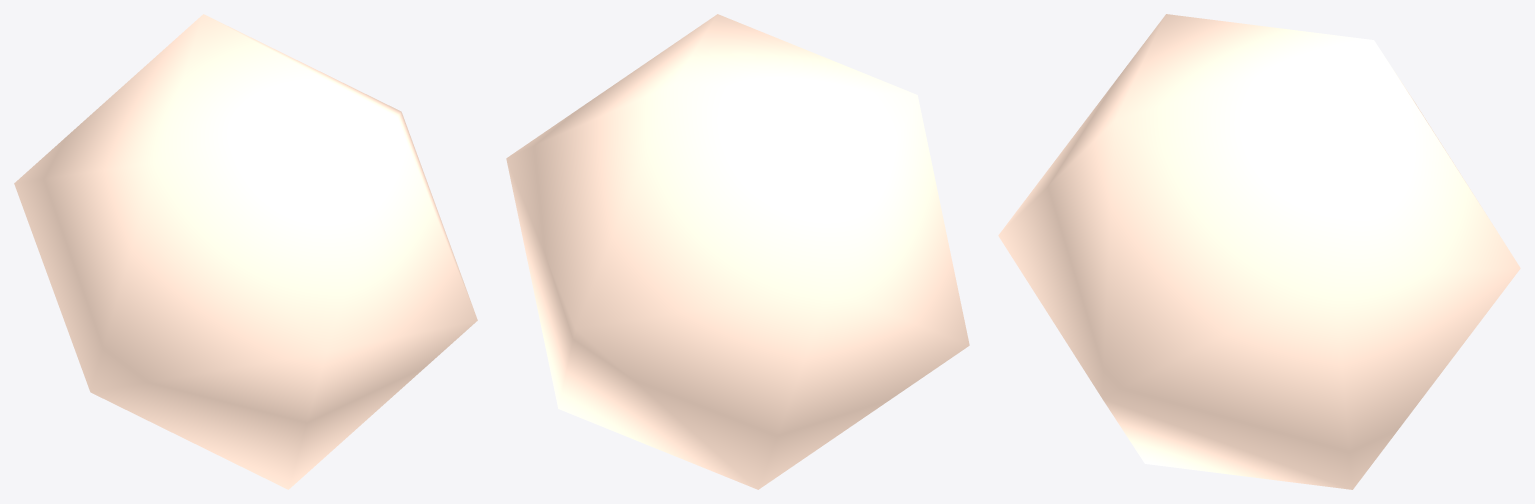
File: rock02.fbx
The picture shows the model from 3 angles, left to right: view 1: azimuth 30°, elevation 25°; view 2: azimuth 150°, elevation 25°; view 3: azimuth 270°, elevation 25°; orthographic projection. The views are drawn at different scales.
Parts seen in each view (by area): view 1: rock02; view 2: rock02; view 3: rock02.
Part boxes in pixels (x1=…): rock02: x1=14, y1=14, x2=477, y2=489; rock02: x1=506, y1=14, x2=969, y2=489; rock02: x1=998, y1=14, x2=1520, y2=489.
Bounding box in the file's own units: 7.89 × 7.84 × 8.56.
